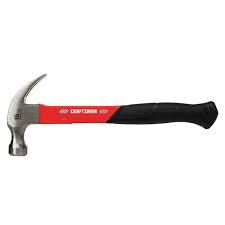martillu: (4, 71, 220, 161)
